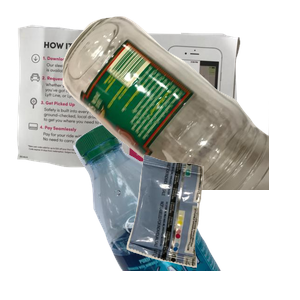glass: (60, 14, 300, 194)
paper: (14, 22, 247, 191)
plastic: (71, 120, 300, 300)
trash: (124, 152, 300, 300)
